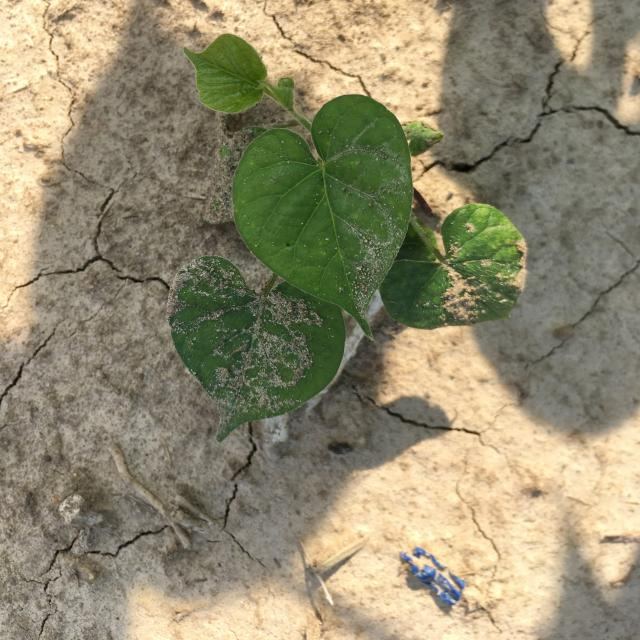MorningGlory: (167, 32, 527, 444)
